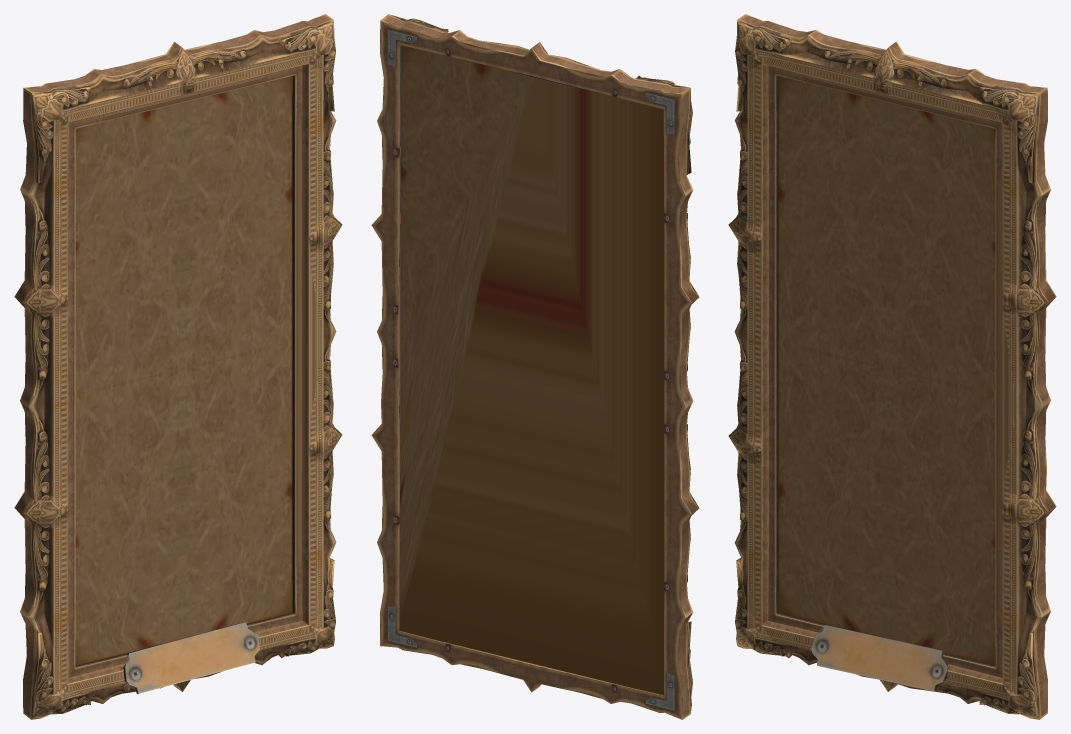
The model's file is goldframe.standing.glb.
The picture shows the model from 3 angles, left to right: view 1: azimuth 30°, elevation 25°; view 2: azimuth 150°, elevation 25°; view 3: azimuth 330°, elevation 25°; orthographic projection.
Parts seen in each view (by area): view 1: mirror_02_standing_LOD0; view 2: mirror_02_standing_LOD0; view 3: mirror_02_standing_LOD0.
Part boxes in pixels (x1=…): mirror_02_standing_LOD0: x1=14, y1=14, x2=342, y2=719; mirror_02_standing_LOD0: x1=371, y1=14, x2=699, y2=719; mirror_02_standing_LOD0: x1=728, y1=14, x2=1056, y2=719.
Bounding box in the file's own units: 0.8196 × 1.58 × 0.0983.
1 material, 1 textured.
